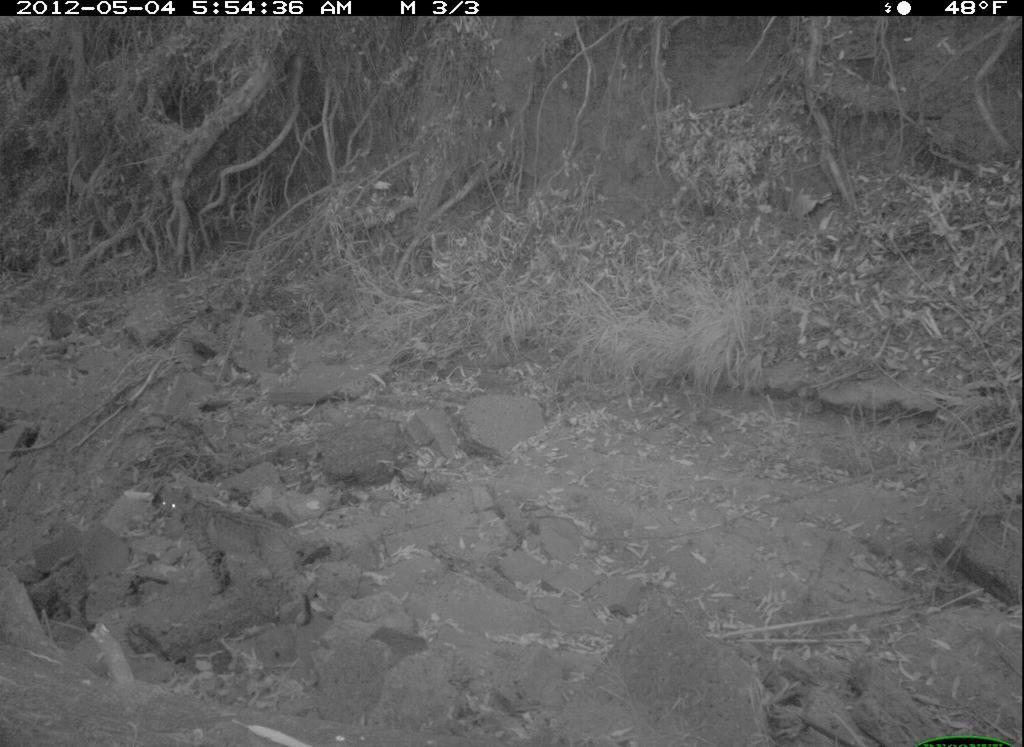bobcat: (158, 482, 326, 629)
